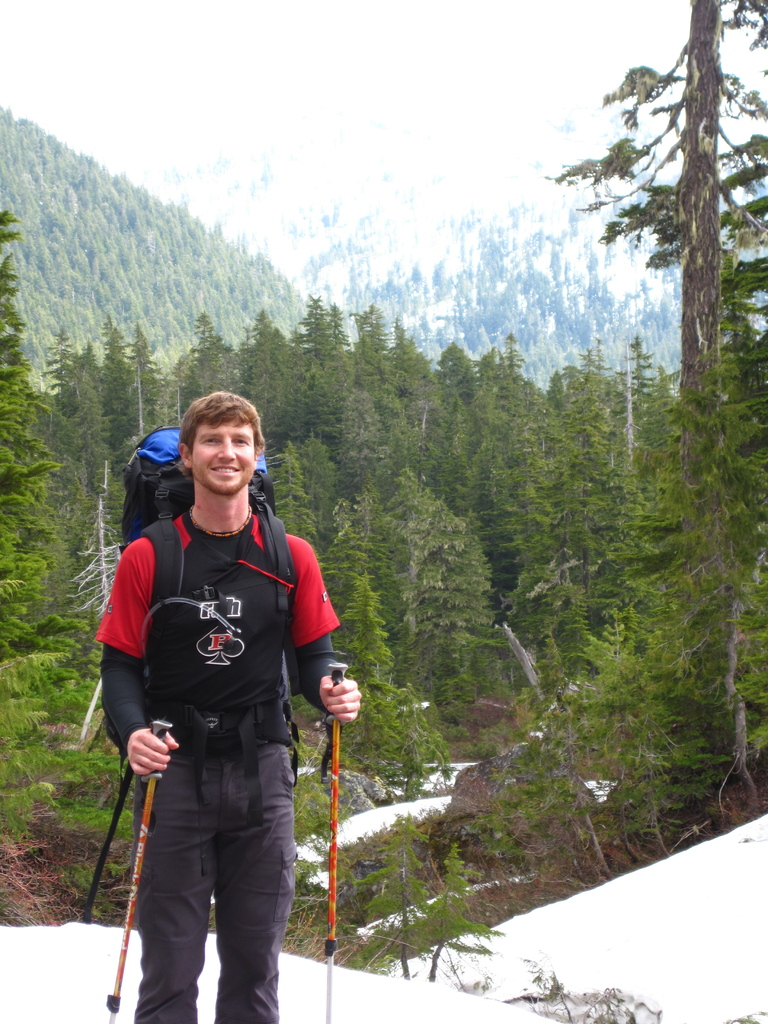Tree: (29, 290, 768, 707), (540, 0, 768, 813), (0, 206, 95, 847)
